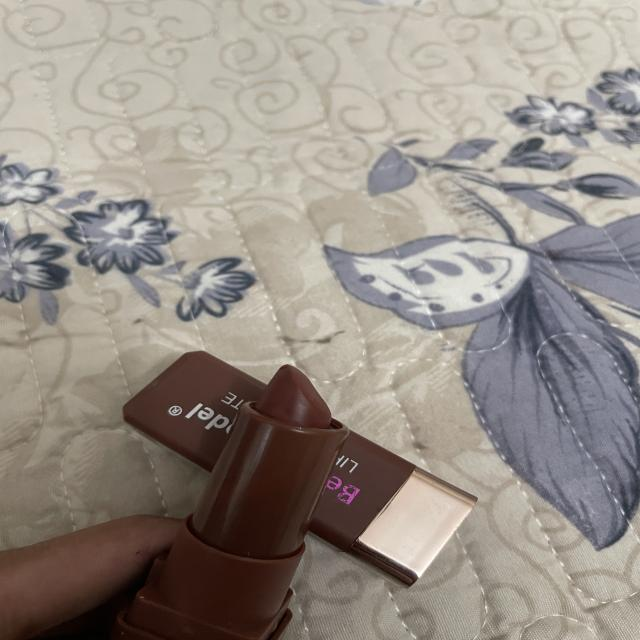lip stick: (86, 322, 353, 640)
